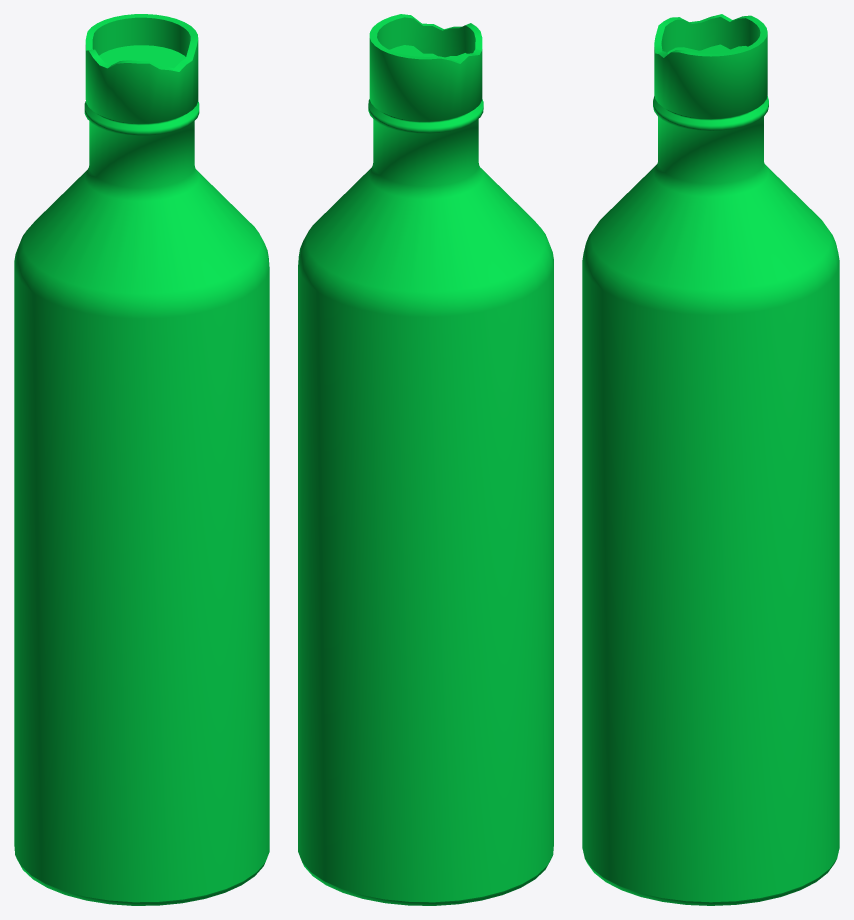
Rendered from bottle_no_paper.fbx.
3 views of the same model, side by side, from view 1: azimuth 30°, elevation 25°; view 2: azimuth 150°, elevation 25°; view 3: azimuth 270°, elevation 25° (orthographic).
Visible parts, largest first — view 1: Cylinder; view 2: Cylinder; view 3: Cylinder.
Boxes of the visible parts, x1=… form: Cylinder: x1=14, y1=14, x2=269, y2=905; Cylinder: x1=298, y1=14, x2=553, y2=905; Cylinder: x1=582, y1=14, x2=839, y2=905.
Size of the model in its own units: 112 by 396 by 112.
